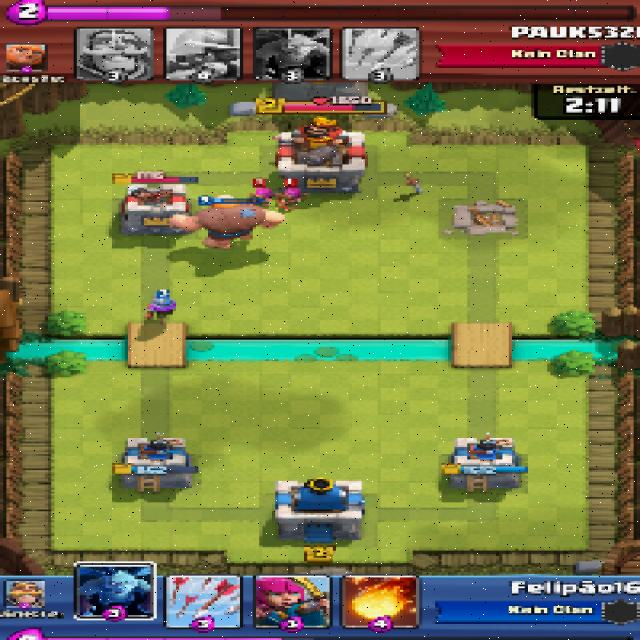Enemy-Archer: (278, 187, 304, 208), (247, 186, 274, 204)
Player-Giant: (162, 194, 282, 248)
Player-Musketeer: (140, 287, 176, 322)
